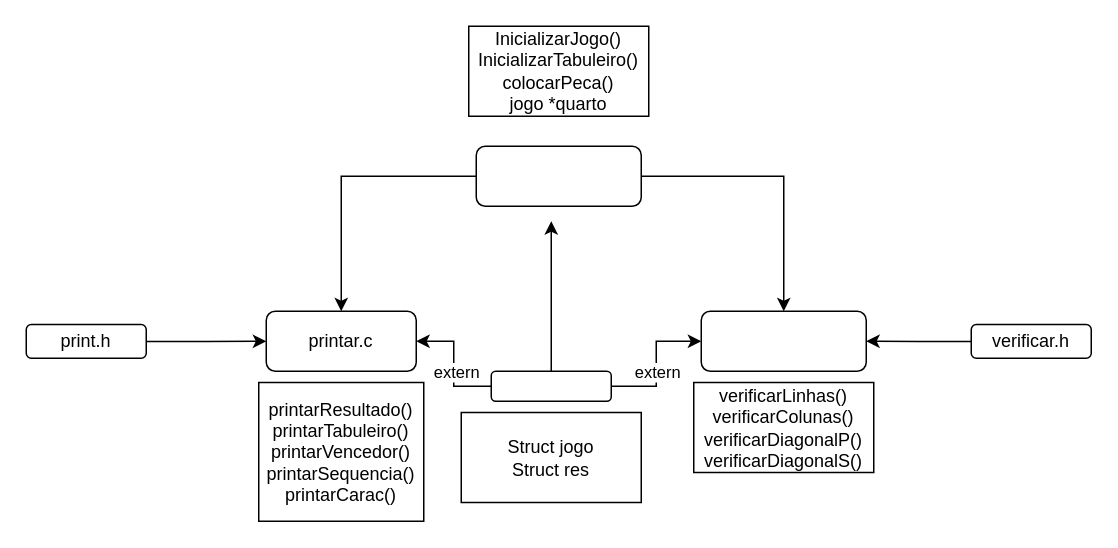
This 1118x548 diagram has some shape labels left out. Each missing label, with the centre of its shape:
"gameLogic.c" goes at (x=558, y=175).
"jogo.h" goes at (x=550, y=385).
"verificar.c" goes at (x=783, y=340).
